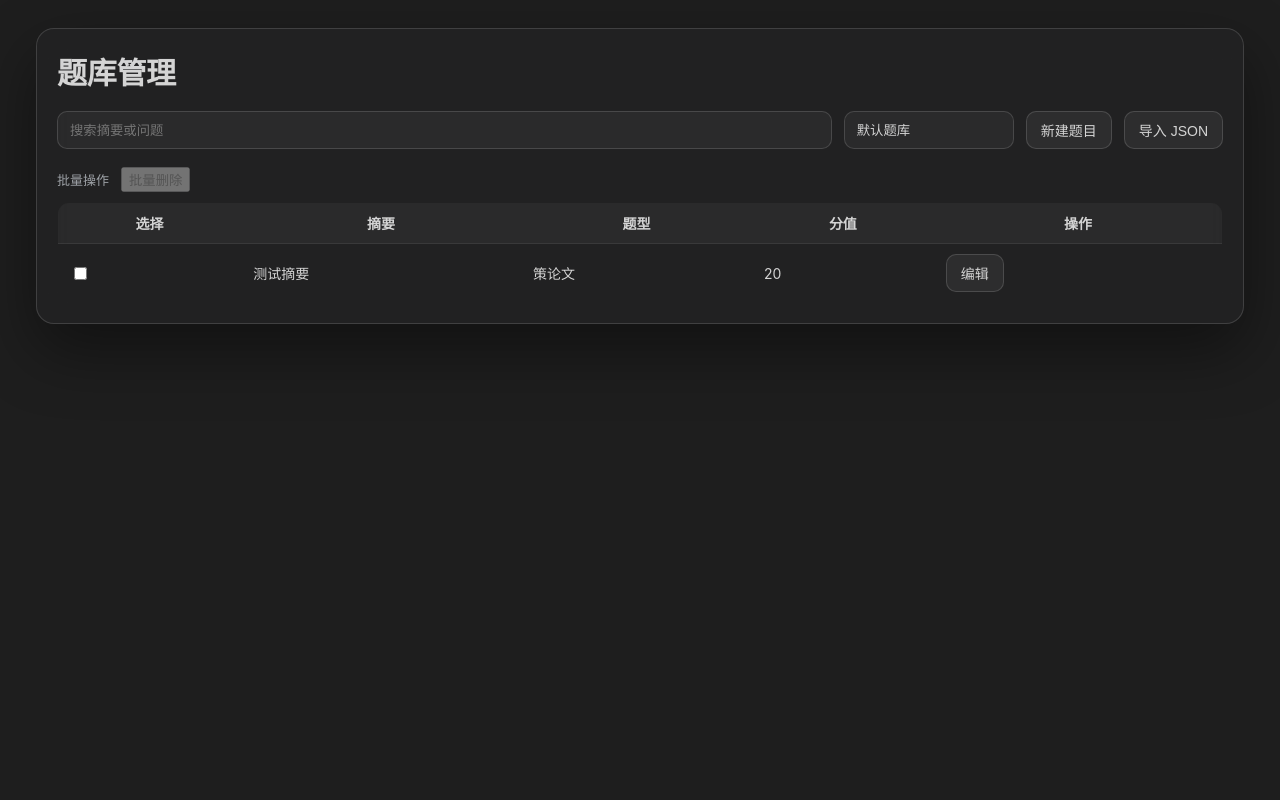
Test: selecting rows enables batch action and import modal can open
The image size is (1280, 800).
Check: the button "批量删除" is disabled, box [121,167,190,192]
Click the checkbox: (80, 273) [74,266,87,280]
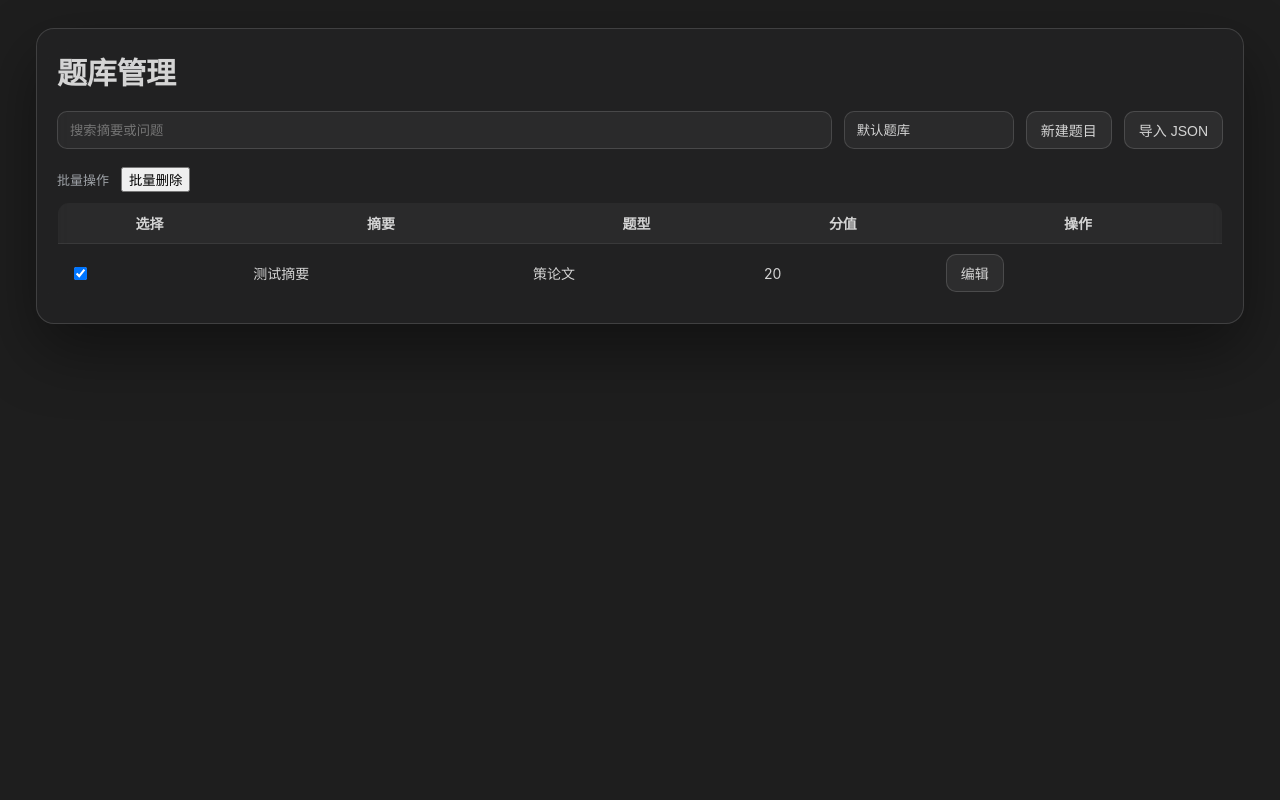
Check: the button "批量删除" is enabled, box [121,167,190,192]
Click the button "导入 JSON": (1173, 130) [1124,111,1223,149]
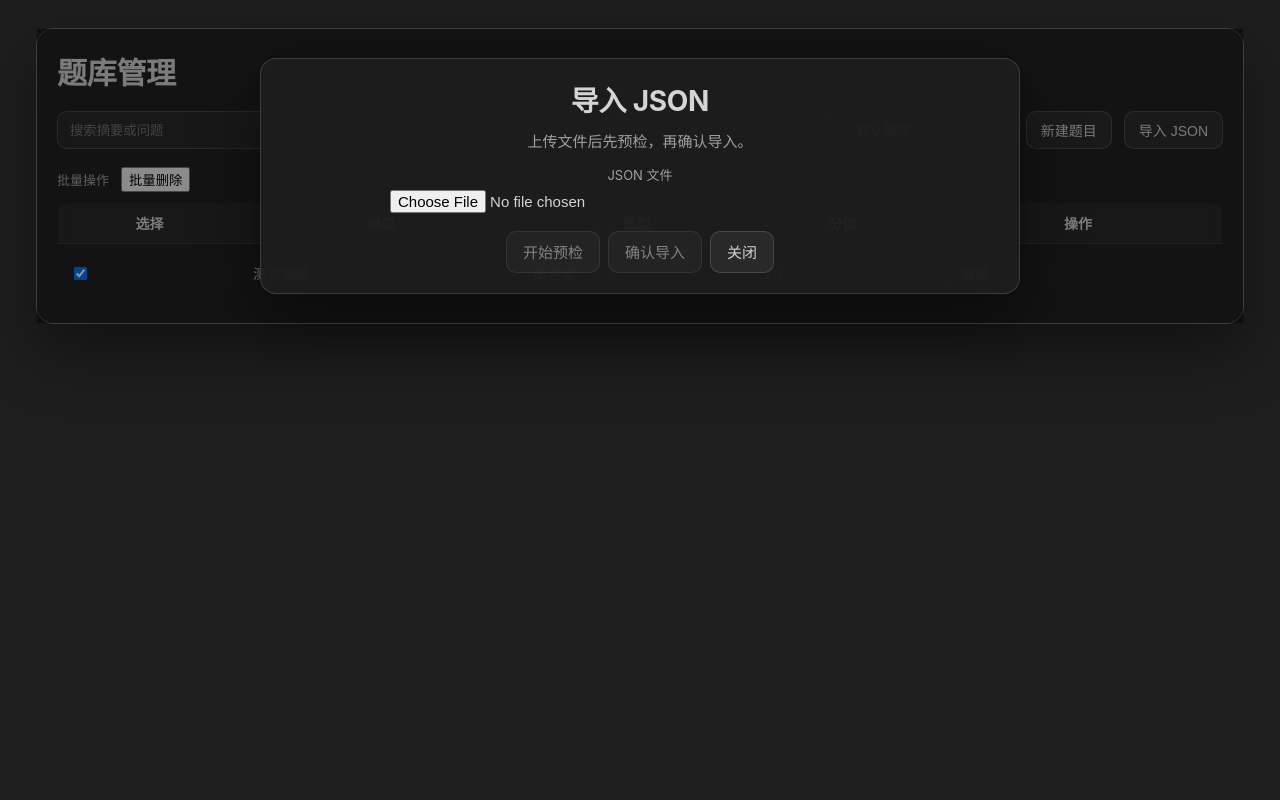
Check: the dialog "导入 JSON" is shown, box [260,58,1020,294]
